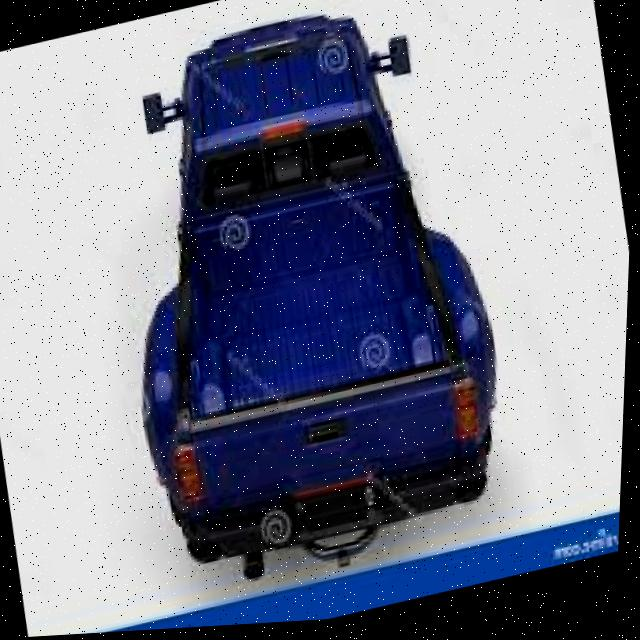truck: (79, 0, 538, 584)
